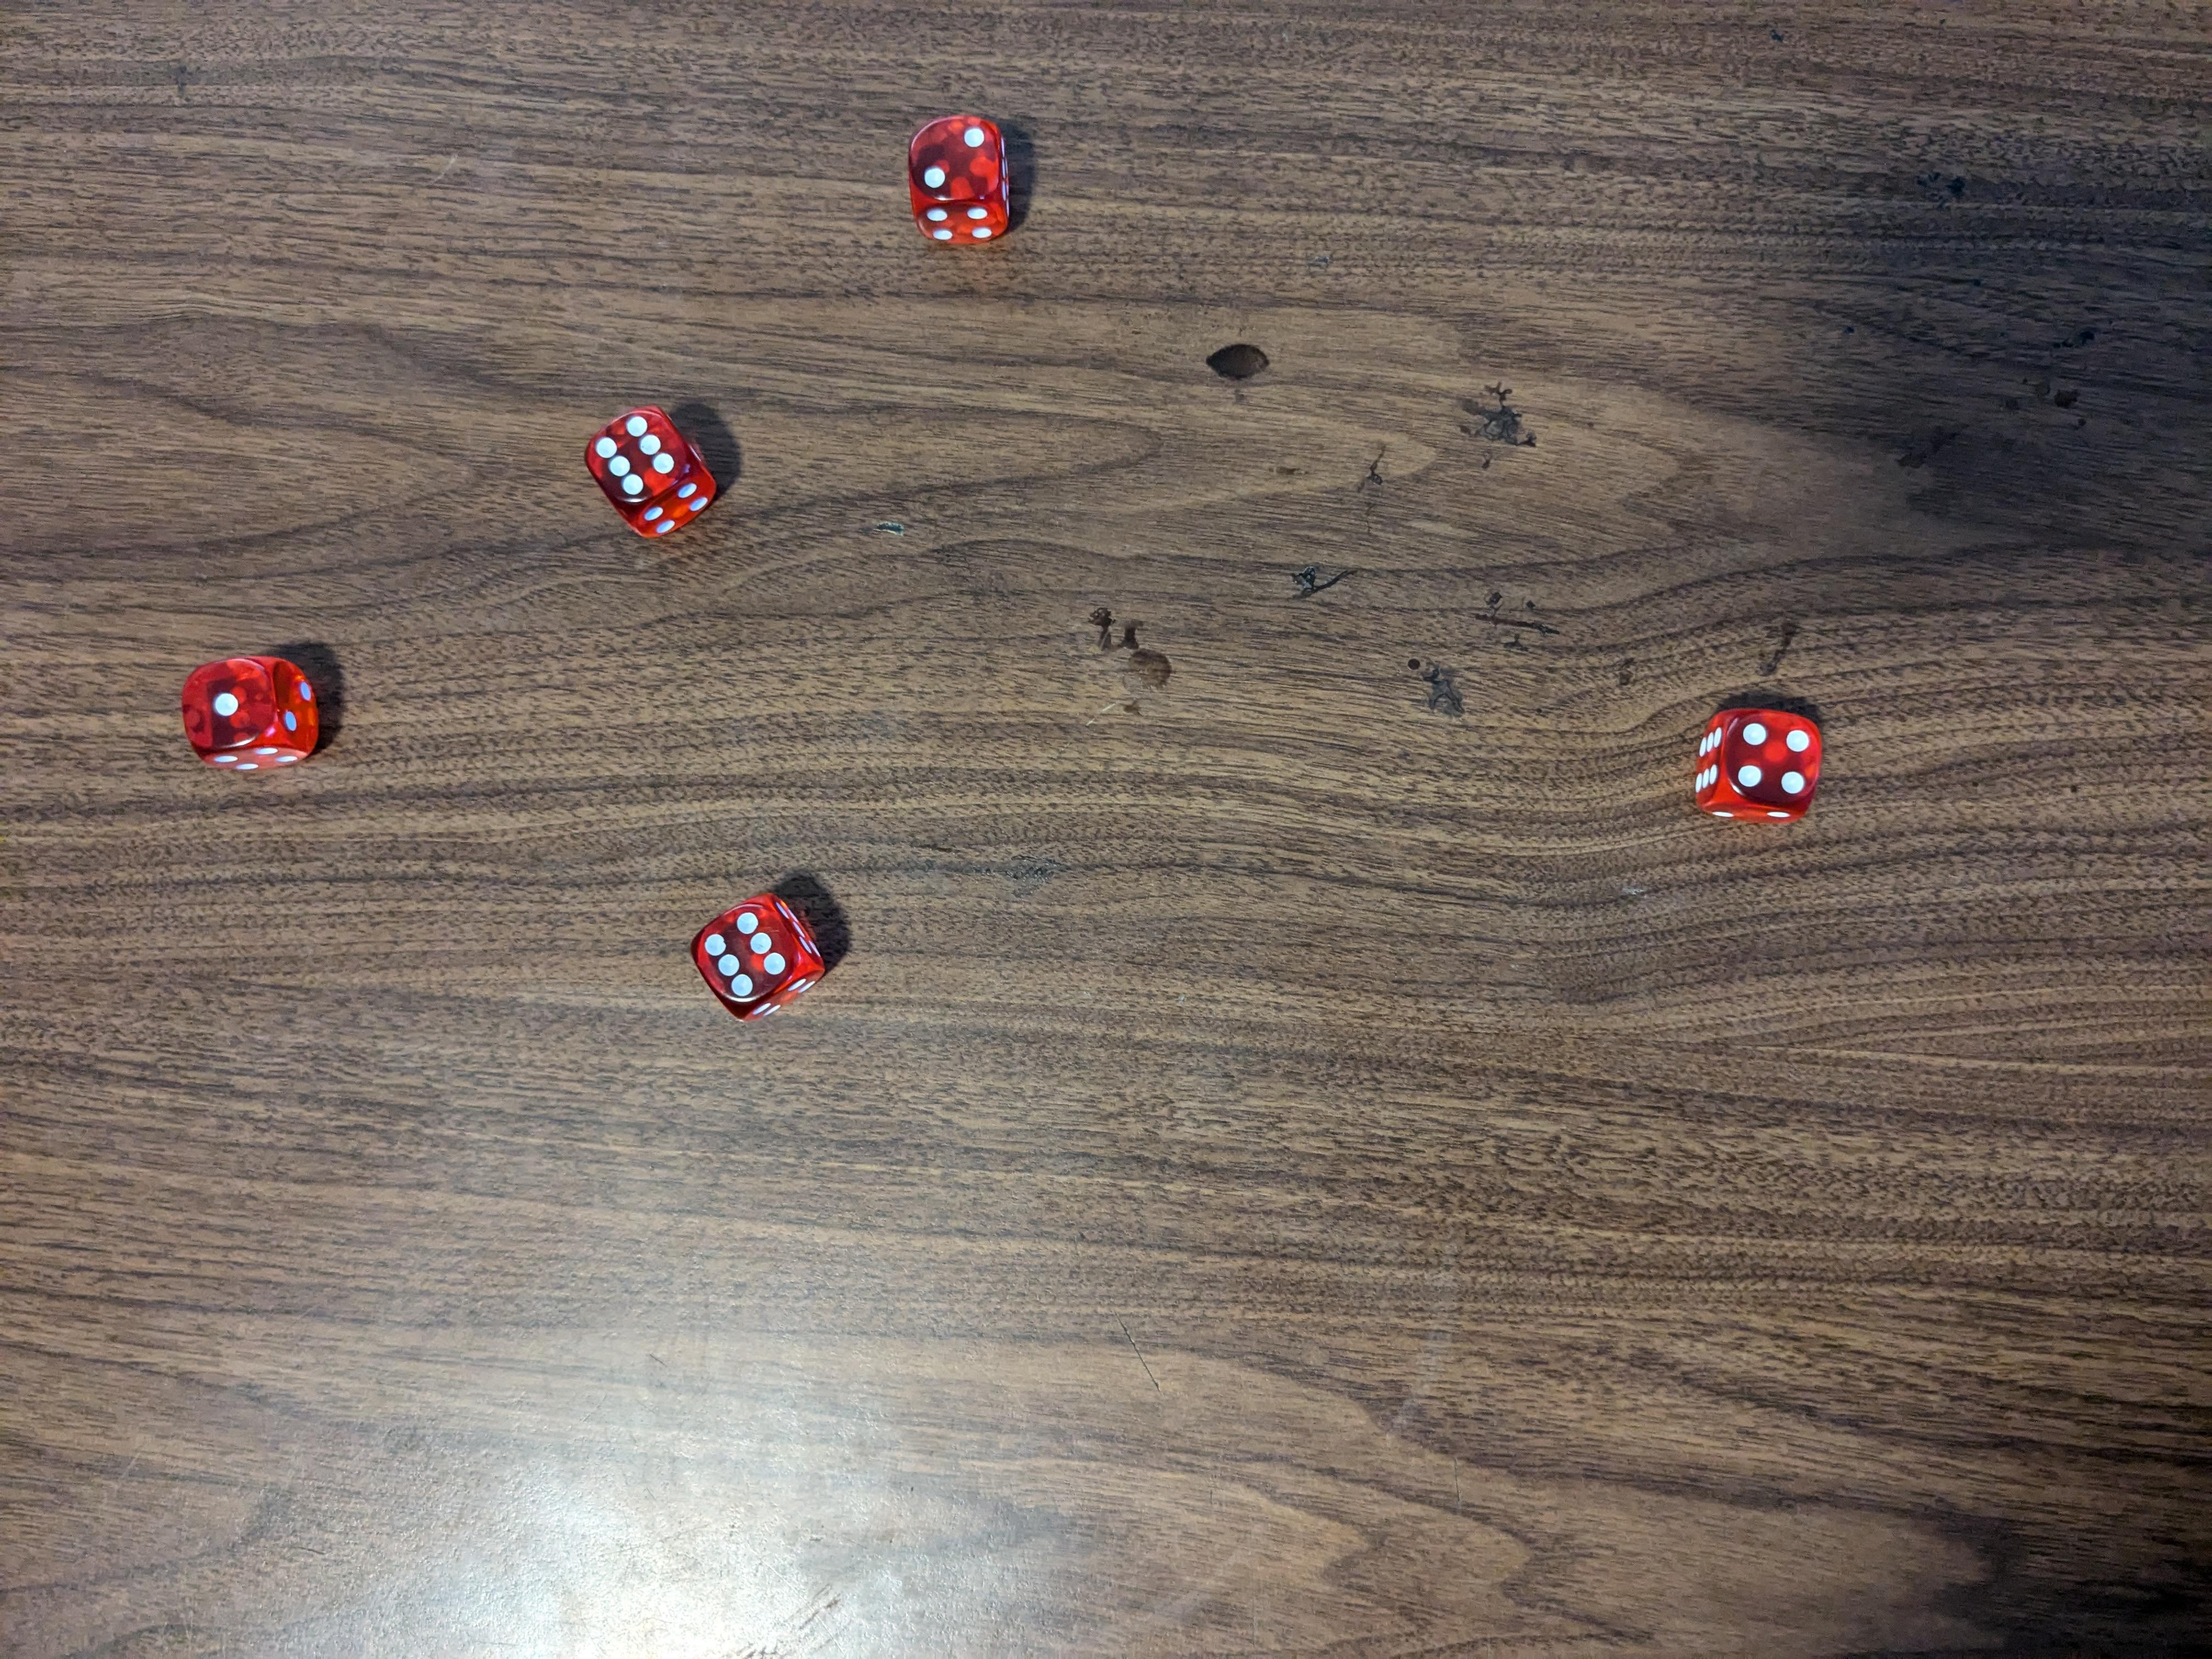four: (1686, 706, 1832, 830)
one: (178, 653, 327, 772)
six: (582, 401, 730, 556), (688, 894, 831, 1026)
two: (902, 113, 1019, 249)
